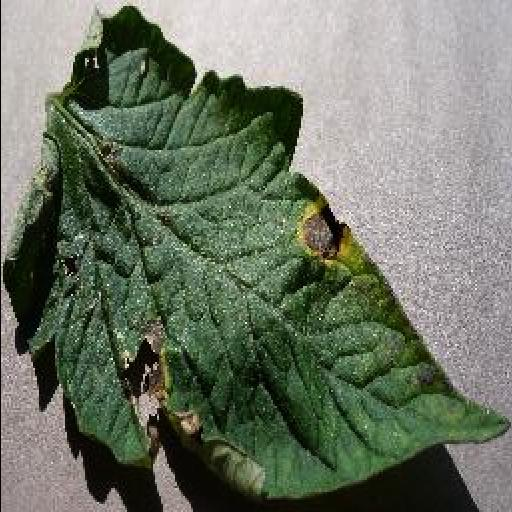disease_tomato: (5, 14, 511, 500)
